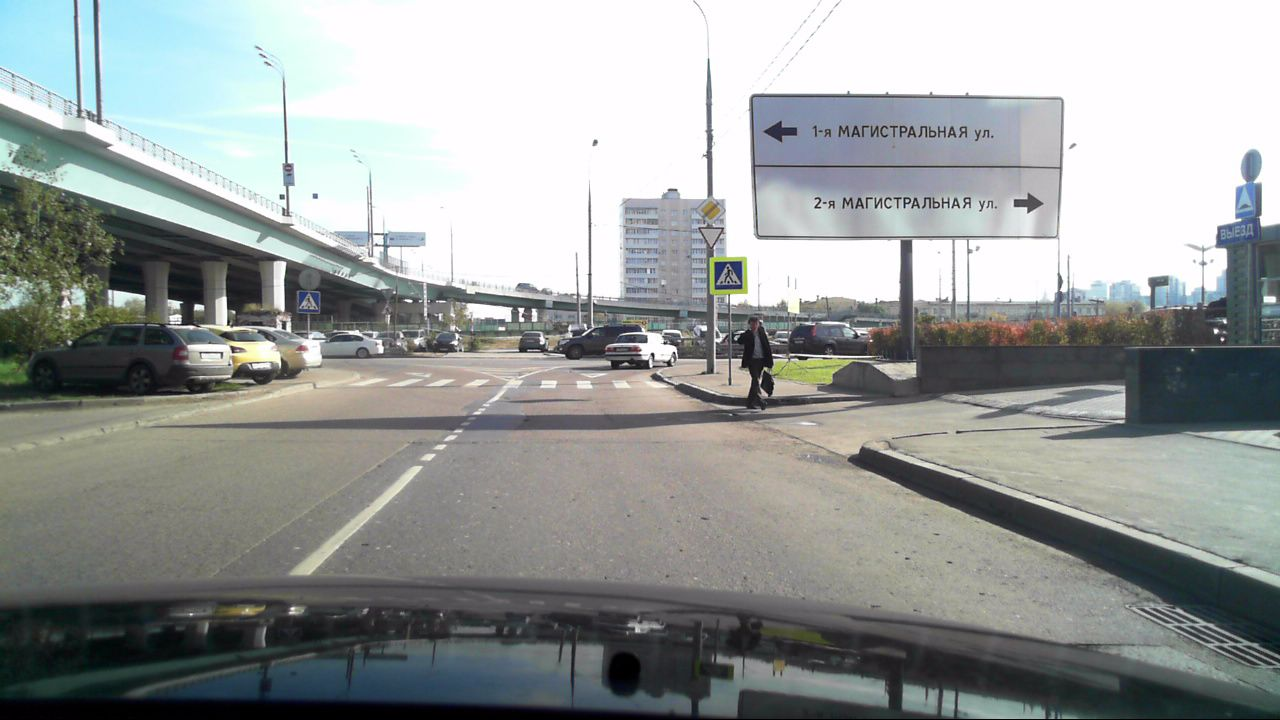main road: (693, 195, 726, 225)
